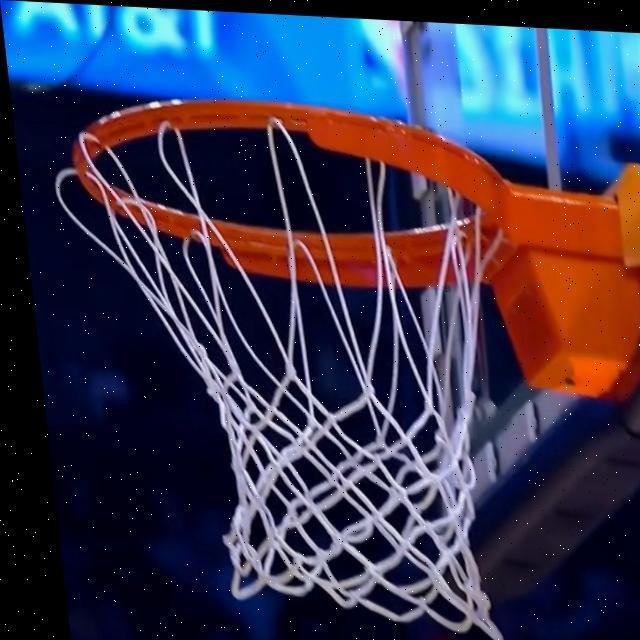hoop: (43, 69, 640, 640)
